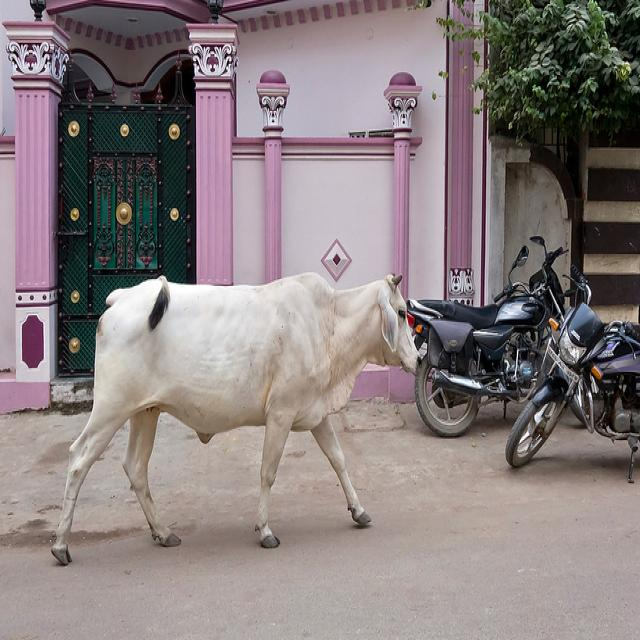motor: (415, 229, 568, 430), (510, 283, 640, 471)
